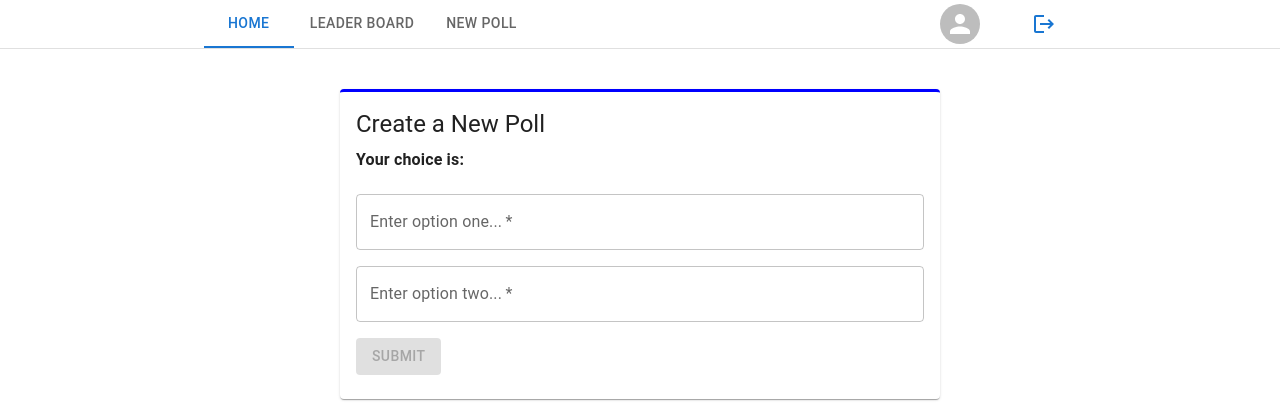
Test: submit button is enable
Type "Option A" into the field labelled "Enter option one... *" at (640, 222), box 356,194 -> 924,250
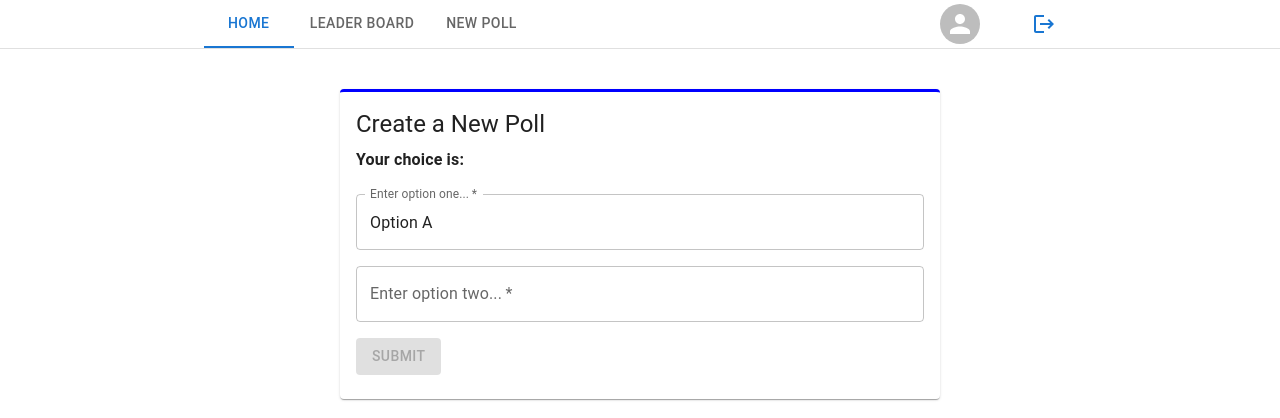
Type "Option B" into the field labelled "Enter option two... *" at (640, 294), box 356,266 -> 924,322
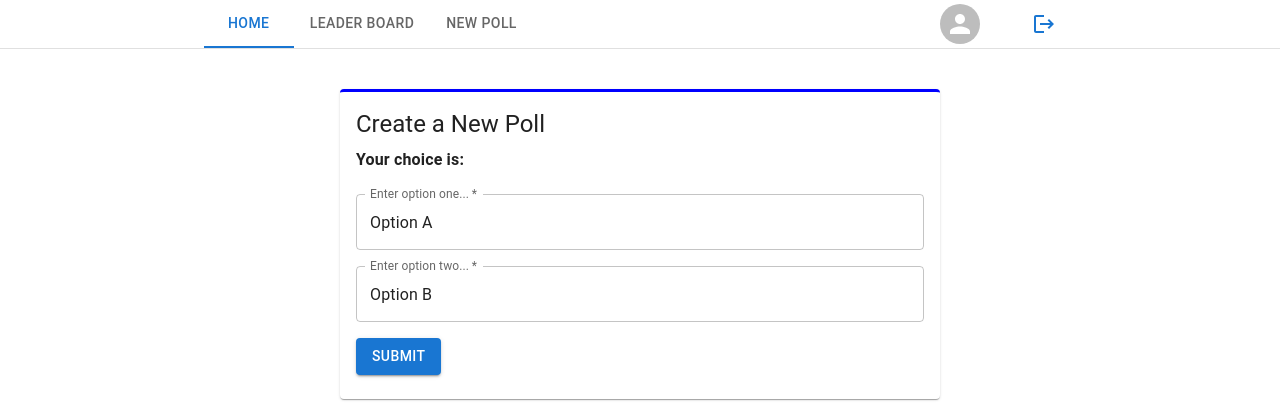
Expected: the button "Submit" is enabled, 356,338 -> 441,374
